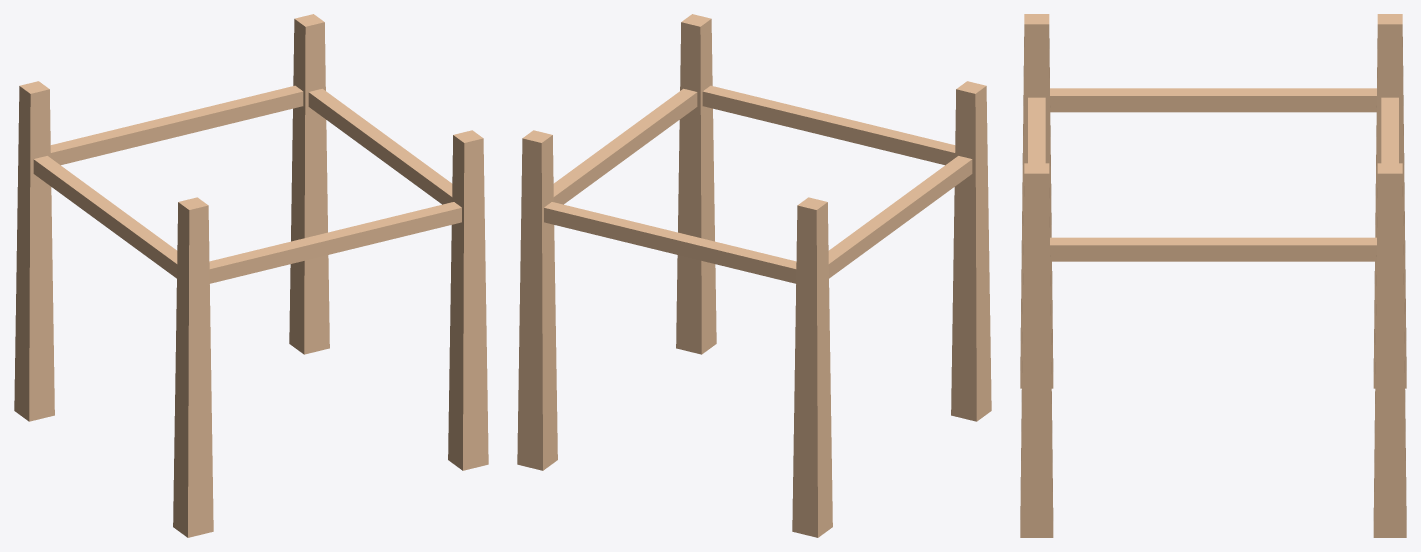
Rendered from structure.glb.
The picture shows the model from 3 angles, left to right: view 1: azimuth 30°, elevation 25°; view 2: azimuth 150°, elevation 25°; view 3: azimuth 270°, elevation 25°; orthographic projection. The views are drawn at different scales.
Parts seen in each view (by area): view 1: structure; view 2: structure; view 3: structure.
Boxes of the visible parts, box(x1,y1,x2,y2) form: structure: box(14, 14, 488, 537); structure: box(517, 14, 991, 537); structure: box(1020, 14, 1406, 537).
Bounding box in the file's own units: 2 × 2.07 × 2.
